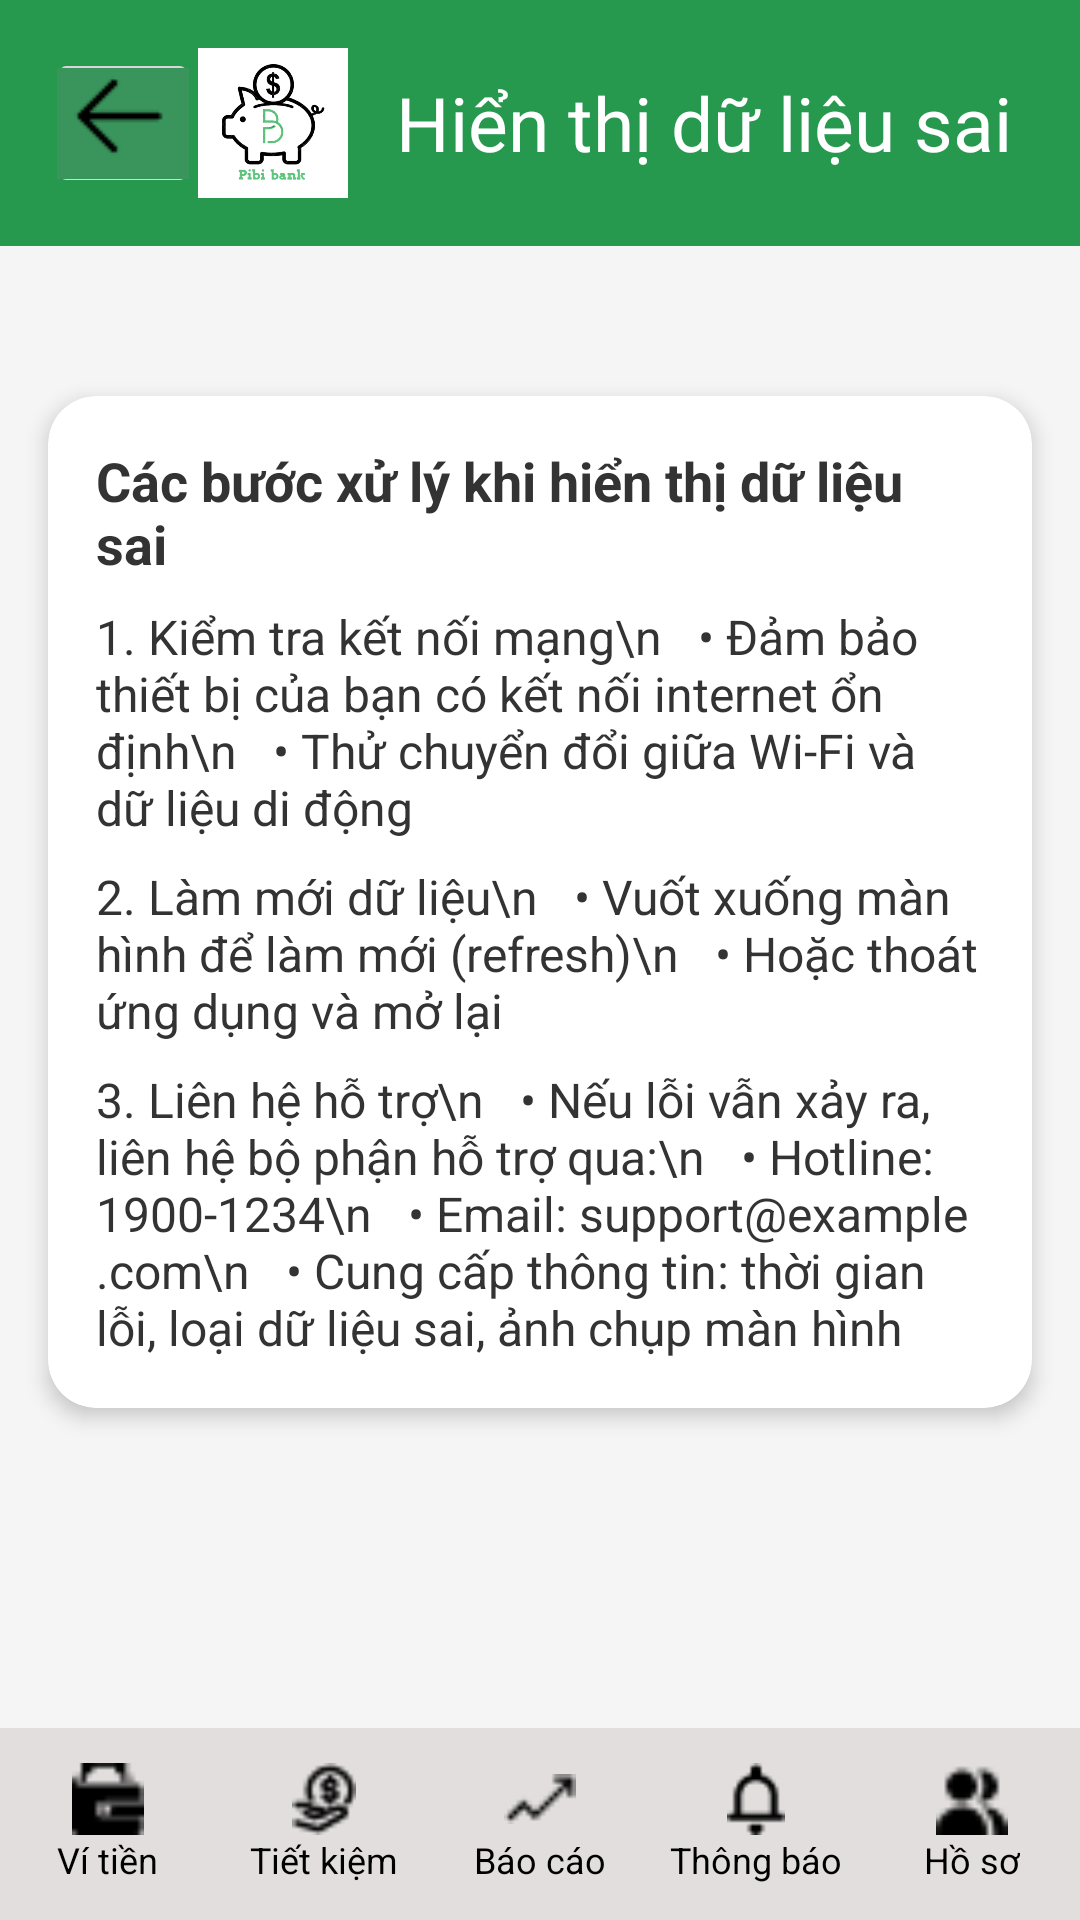

Screen size 1080x1920. Icon name, then its box in pixels as {"x1": x1, "y1": y1, "x2": x2, "y2": y2}:
Back: {"x1": 57, "y1": 66, "x2": 189, "y2": 180}
